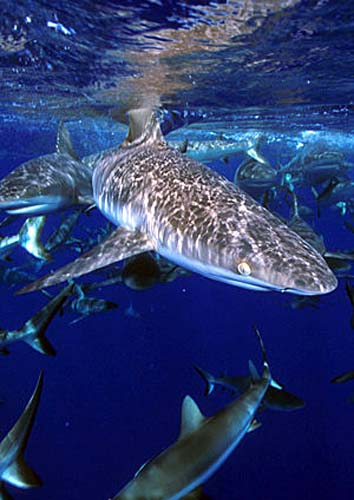Carcharhinus_amblyrhynchos: (5, 119, 349, 317)
